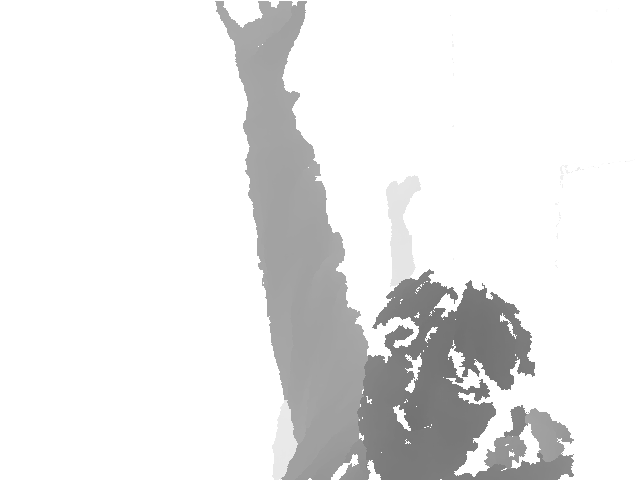hand: (210, 1, 307, 103), (384, 175, 421, 223)
head: (361, 273, 533, 480)
person: (210, 1, 575, 480), (271, 176, 422, 480)
